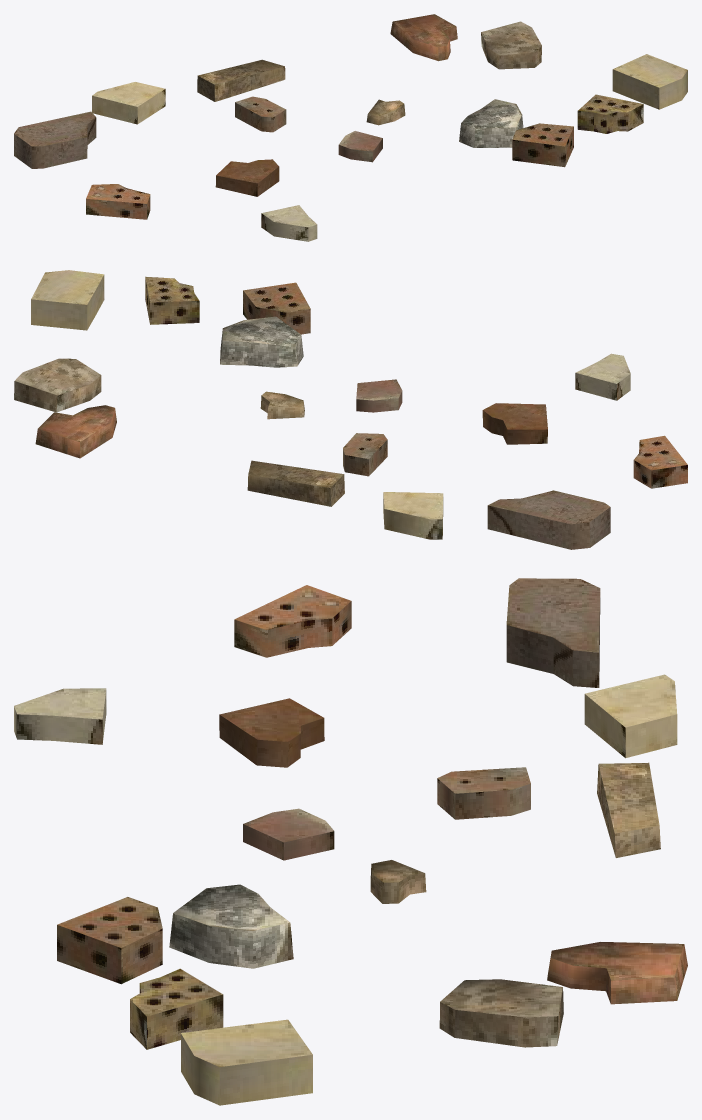
The model's file is debris02.glb.
3 renders of one model, top to bottom at view 1: azimuth 30°, elevation 25°; view 2: azimuth 150°, elevation 25°; view 3: azimuth 270°, elevation 25°, orthographic. The views are drawn at different scales.
Parts seen in each view (by area): view 1: debris_05; view 2: debris_05; view 3: debris_05.
Boxes of the visible parts, bbox=[...] form: debris_05: bbox=[14, 14, 687, 241]; debris_05: bbox=[14, 270, 687, 549]; debris_05: bbox=[14, 578, 687, 1105].
Size of the model in its own units: 3.19 by 0.1185 by 1.84.
1 material, 1 textured.
